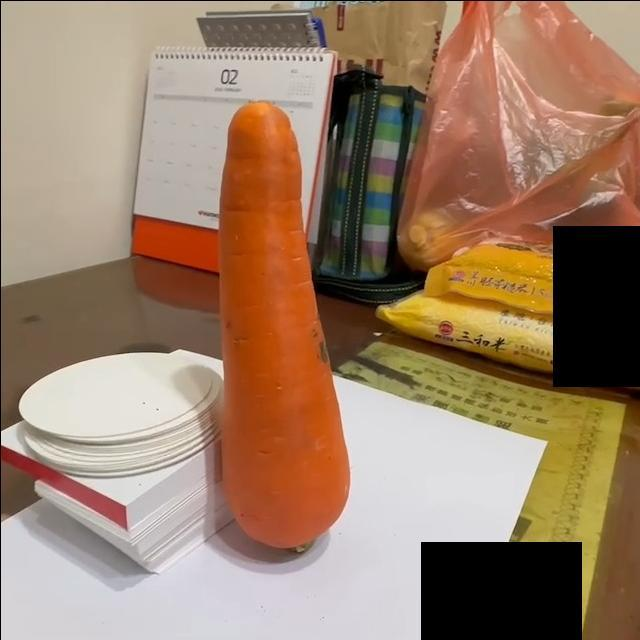carrot: (215, 99, 354, 558)
